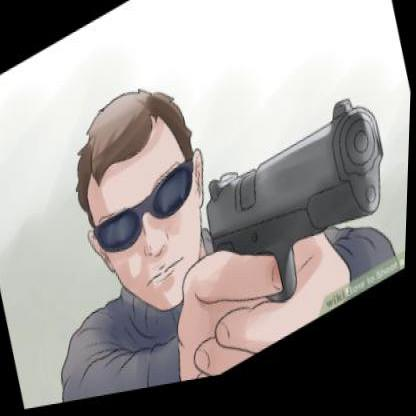pistol: (188, 92, 407, 349)
